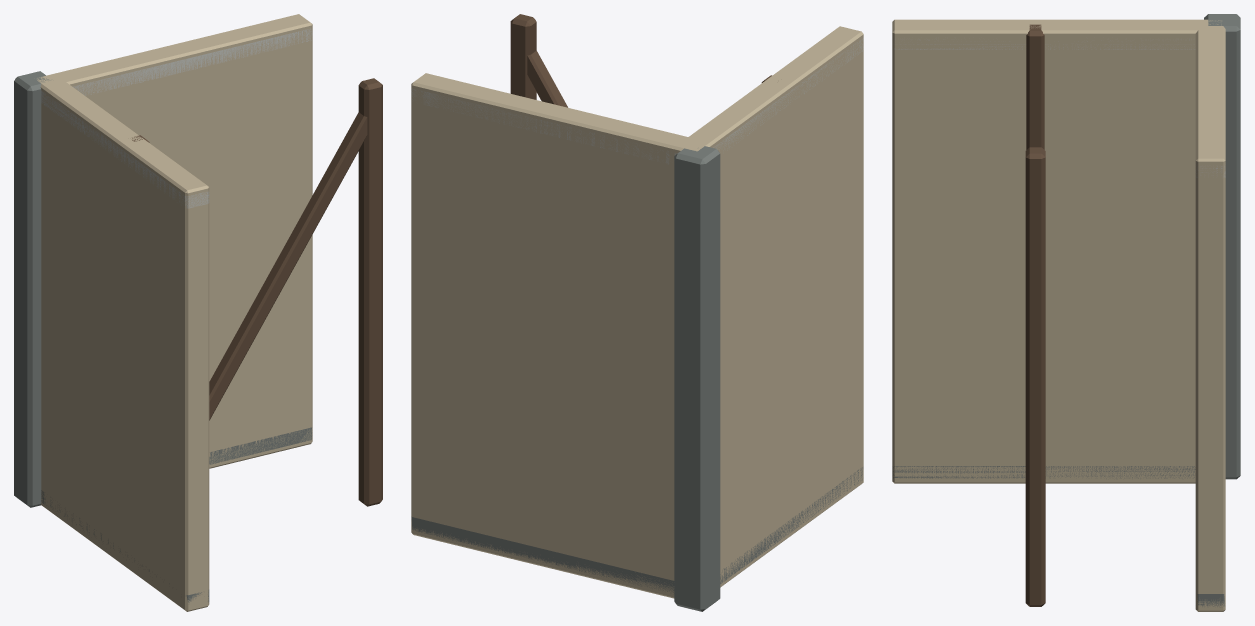
Rendered from architecture-village-outer-corner.lod0.glb.
The picture shows the model from 3 angles, left to right: view 1: azimuth 30°, elevation 25°; view 2: azimuth 150°, elevation 25°; view 3: azimuth 270°, elevation 25°; orthographic projection. The views are drawn at different scales.
Visible parts, largest first — view 1: architecture-village-outer-corner__body; view 2: architecture-village-outer-corner__body; view 3: architecture-village-outer-corner__body.
Part boxes in pixels (bbox=[...]): architecture-village-outer-corner__body: bbox=[14, 14, 382, 611]; architecture-village-outer-corner__body: bbox=[411, 14, 863, 611]; architecture-village-outer-corner__body: bbox=[892, 14, 1240, 611].
Bounding box in the file's own units: 2.09 × 3 × 2.09.
